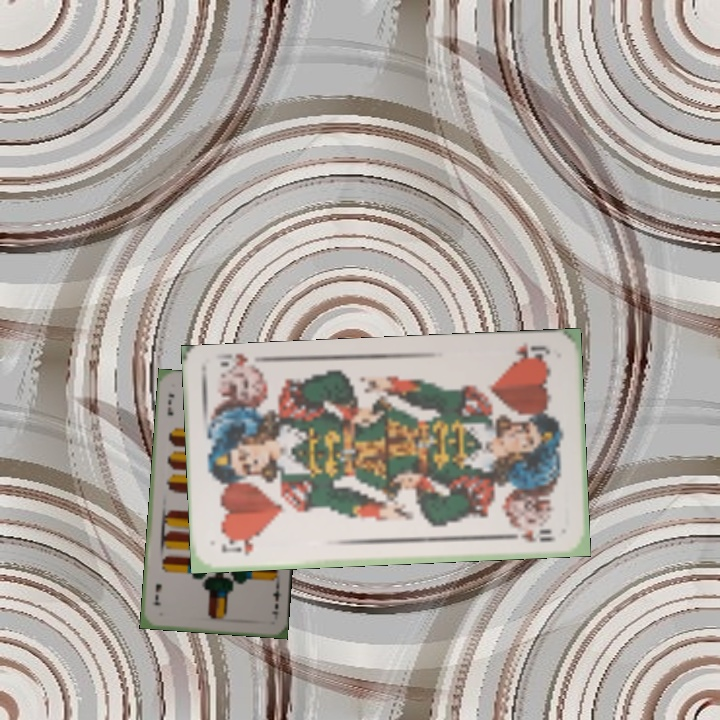E7: (267, 581, 284, 618), (163, 389, 177, 418)
HO: (508, 339, 552, 365), (217, 535, 256, 559)
